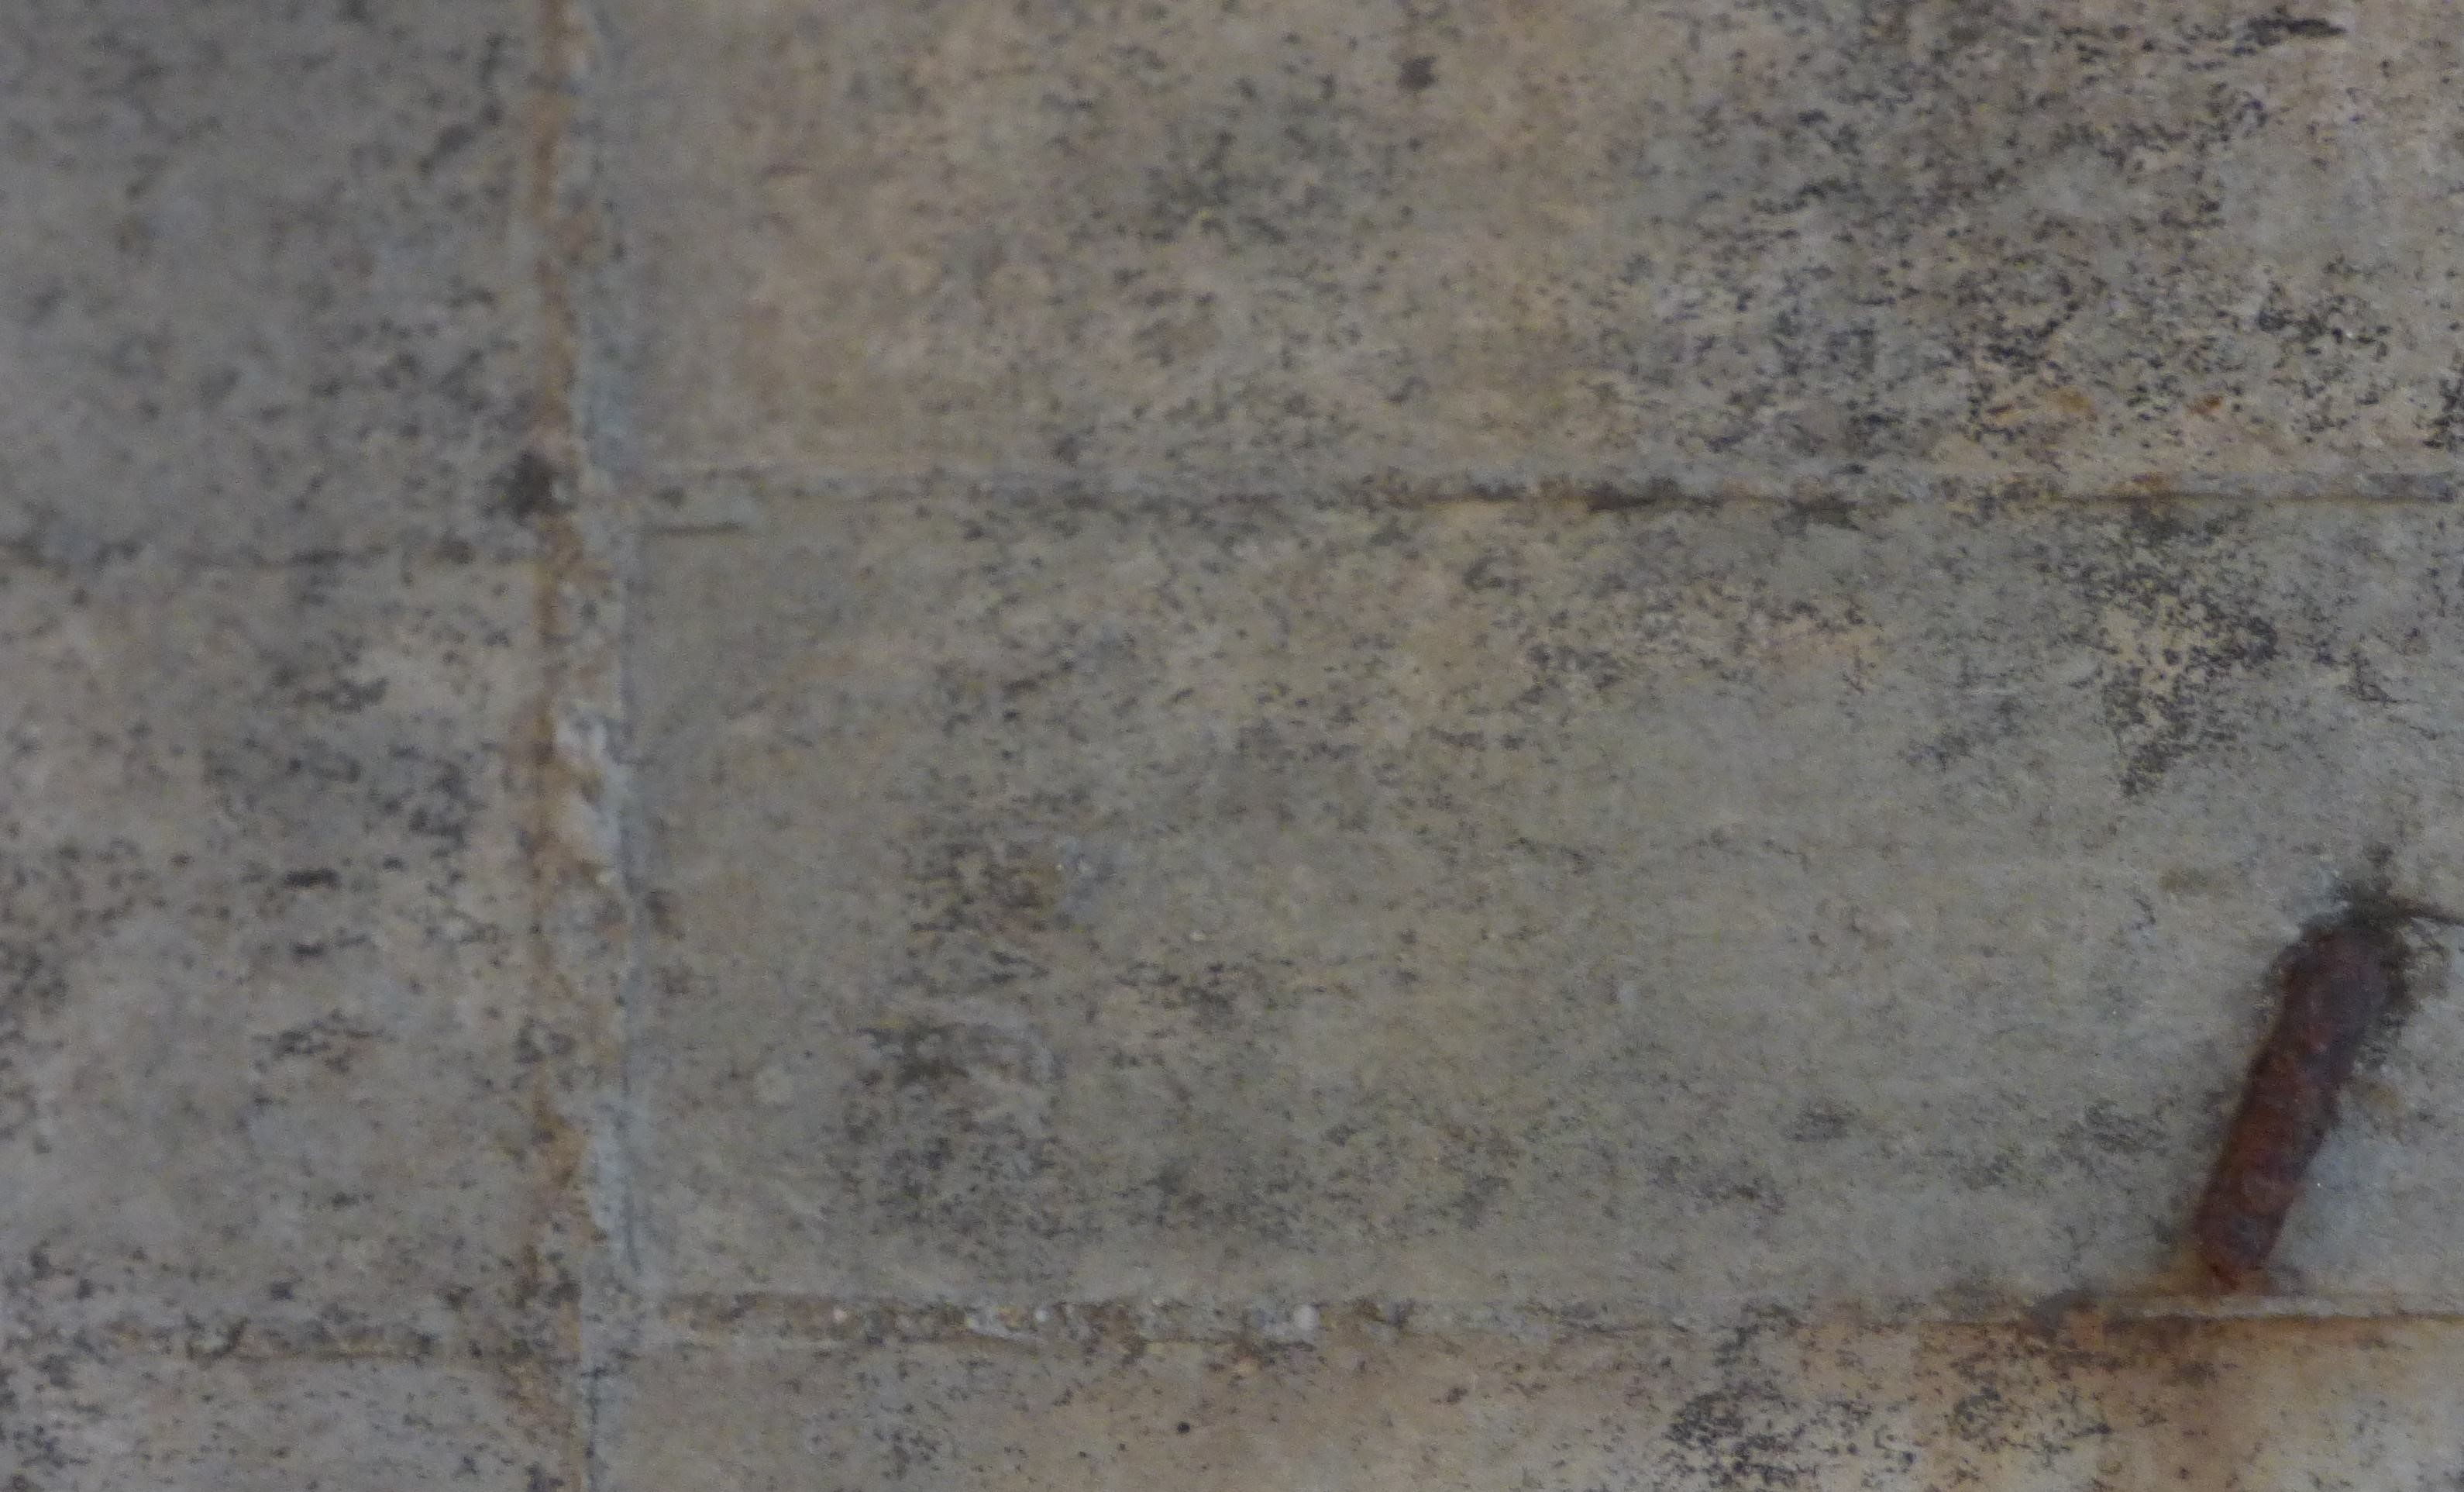Exposed reinforcement: (2193, 923, 2390, 1263)
